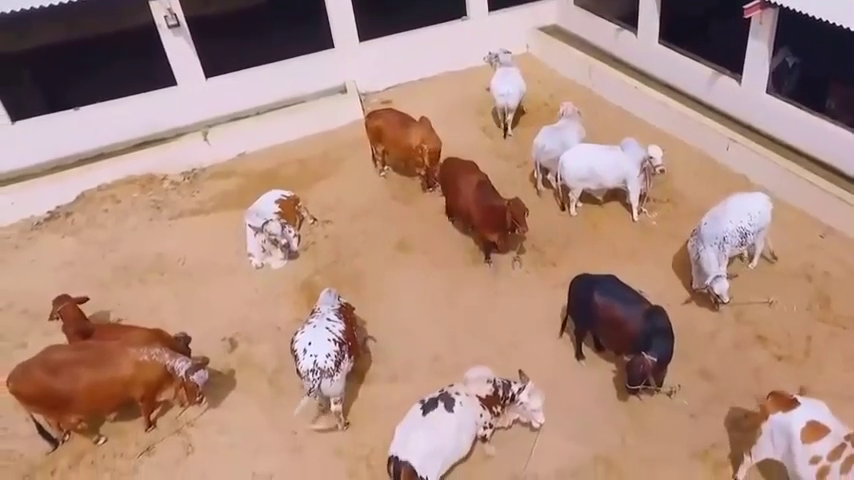bo: (7, 338, 217, 449), (380, 351, 548, 472), (675, 187, 791, 312), (567, 279, 679, 402), (291, 281, 374, 440), (726, 377, 854, 480), (437, 147, 538, 269), (44, 280, 193, 350), (555, 142, 675, 222), (360, 102, 451, 192), (234, 186, 322, 272), (475, 47, 541, 135), (532, 102, 591, 187)
